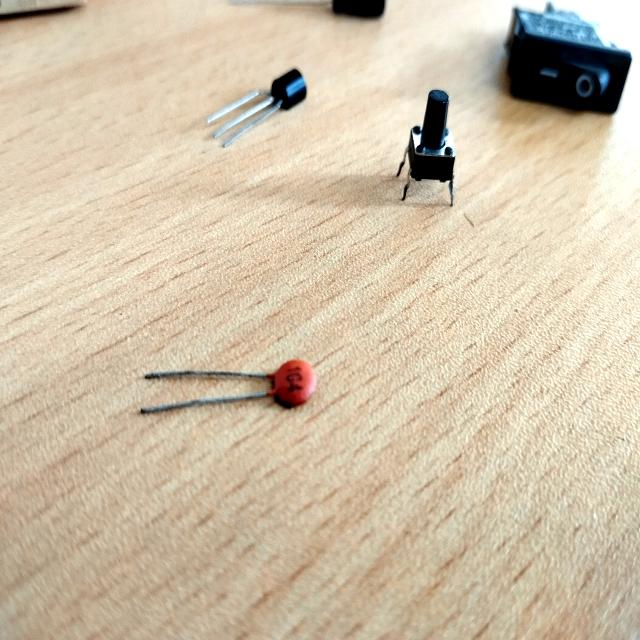BJT-Transistor: (201, 65, 312, 152)
Low-Voltage-Ceramic-Capacitor: (135, 349, 316, 423)
Rocker-Switch: (499, 0, 636, 125)
Tact-Switch: (394, 83, 459, 212)
